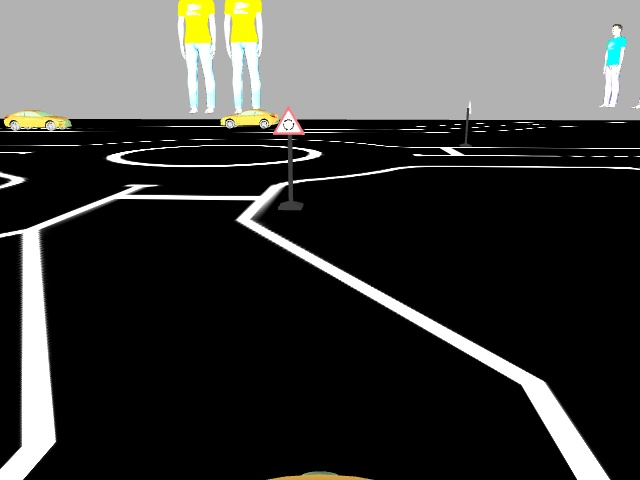Roundabout: (272, 105, 306, 136)
